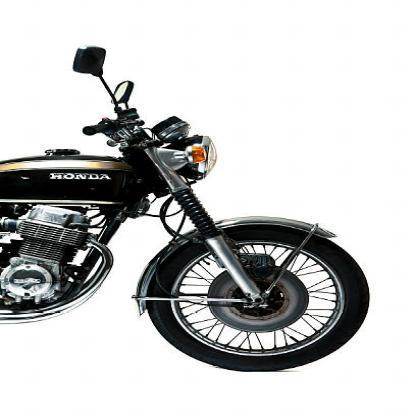Motorcycle: (6, 32, 372, 372)
